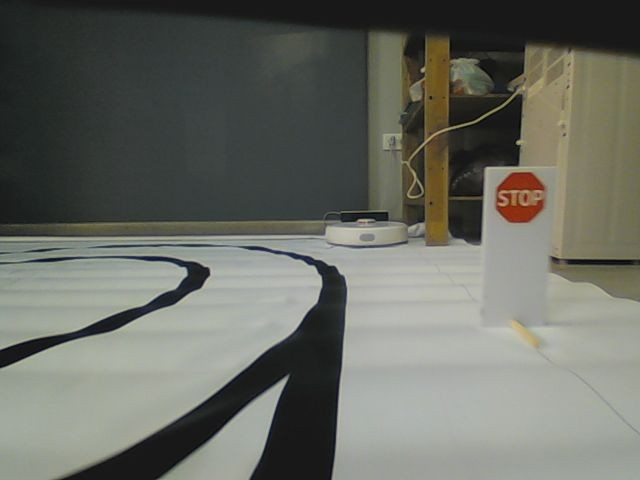Stop: (495, 170, 547, 223)
